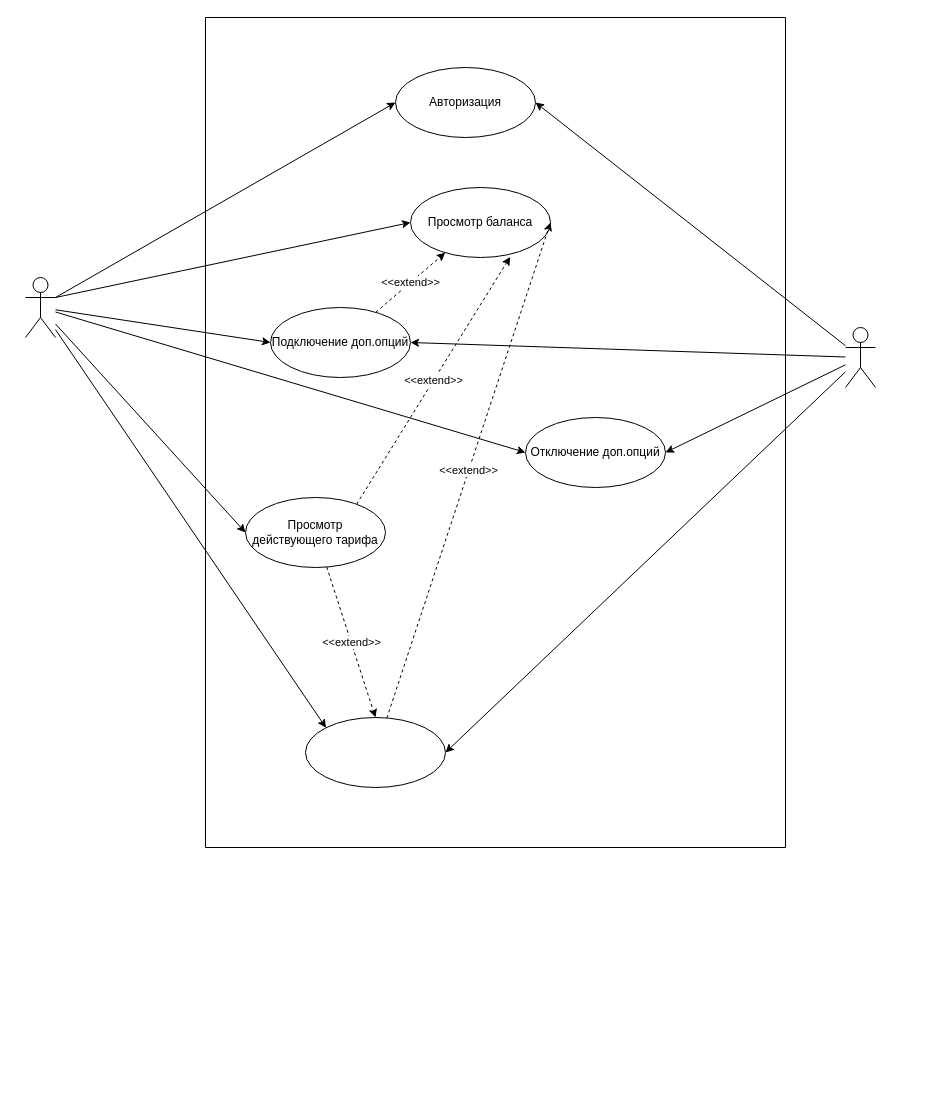
Some shapes in this 934 by 1103 pixel diagram are drawn without their labels. Each missing label, with the centre of its shape:
"Абонент" belongs at point 40,307.
"Просмотр актуальных тарифов" belongs at point 375,752.
"Система мониторинга" belongs at point 860,357.
